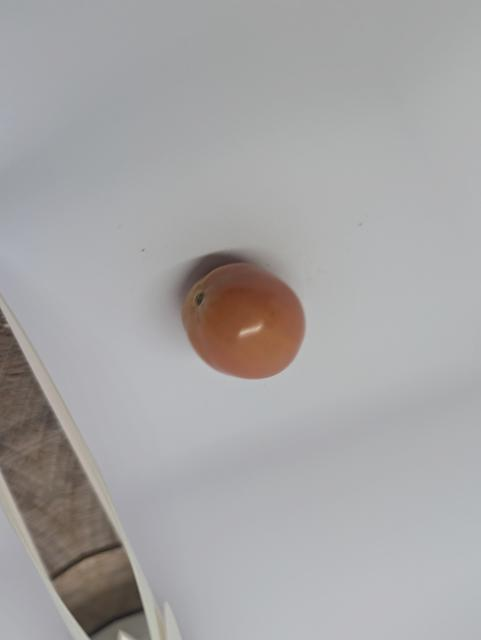red: (170, 254, 321, 387)
